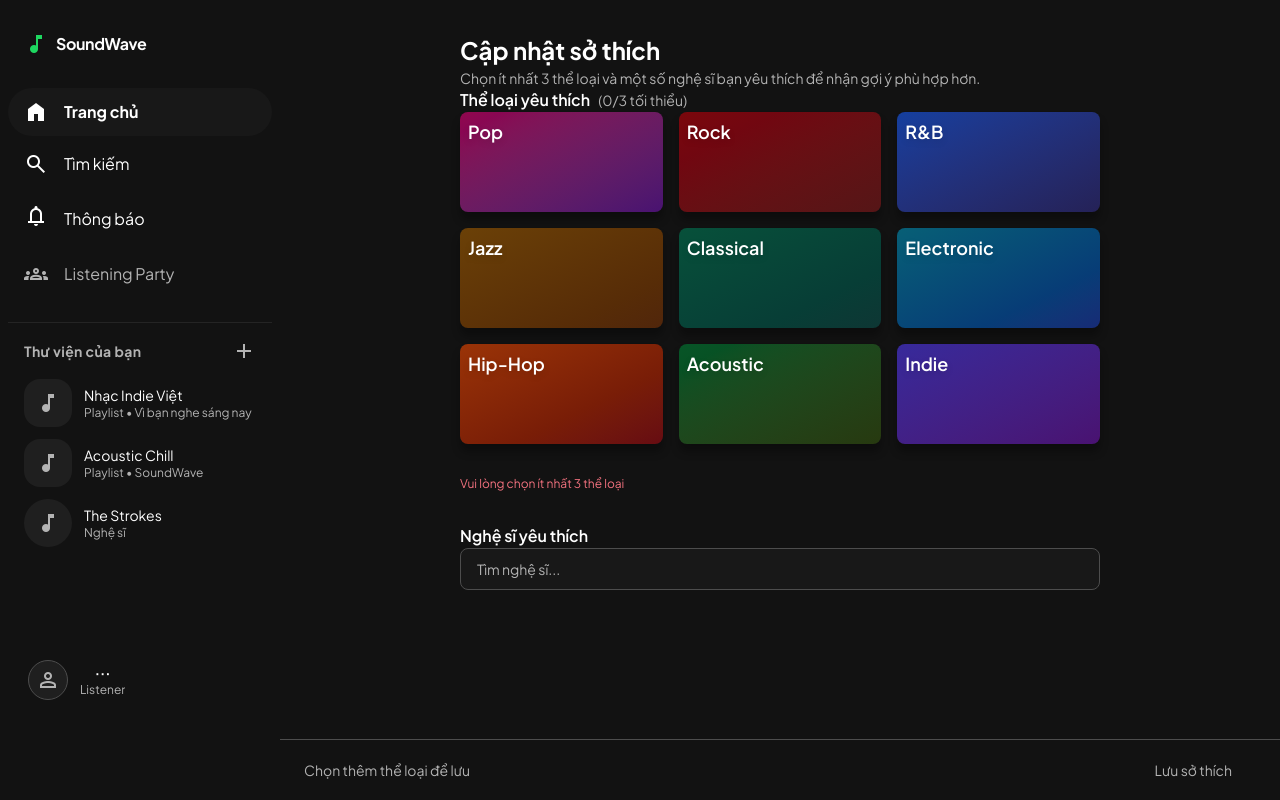
Test case: PreferencesPage › typing in artist search shows matching unselected artists
Type "Vũ" into the field with test id "artist-search-input". click: (780, 569)
box: [460,548,1100,590]
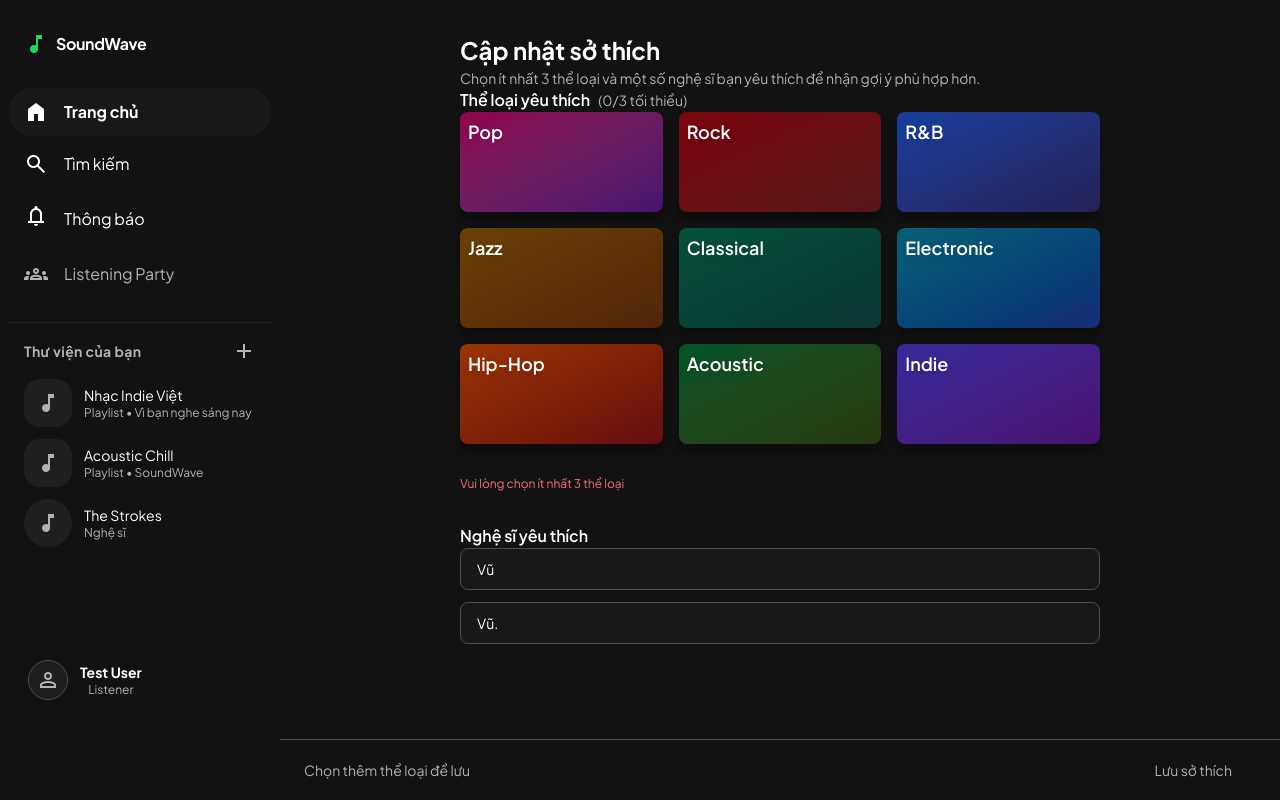
Check: the element with test id "artist-results" is shown, box [460,602,1100,644]
Check: the button with test id "artist-result-Vũ." is shown, box [461,603,1099,643]
